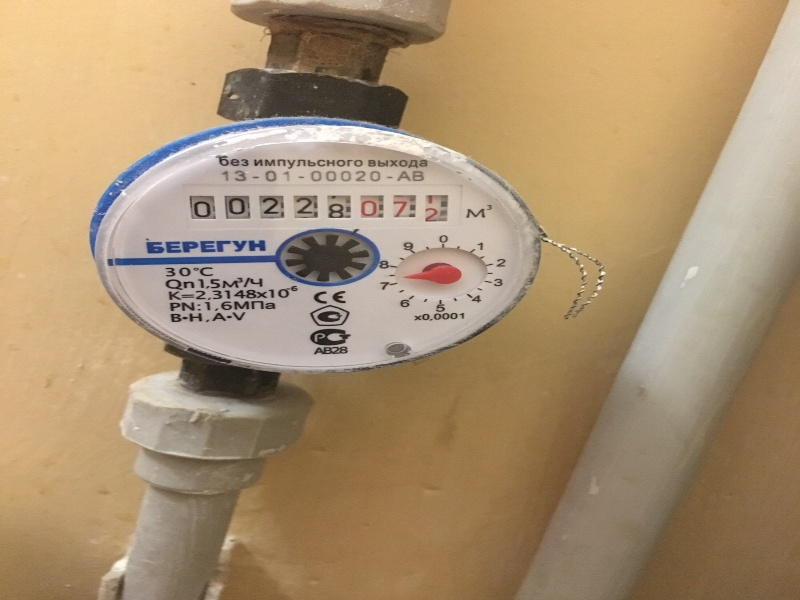dial: (182, 187, 452, 224)
